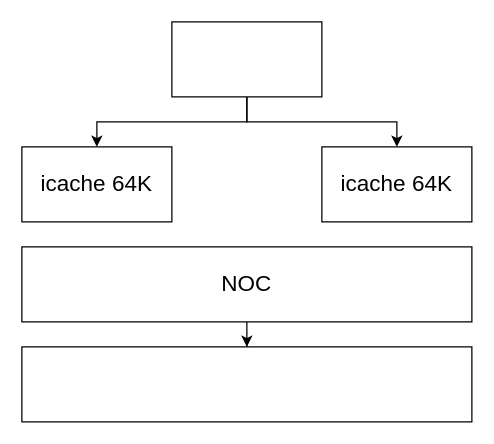
This 494x444 diagram has some shape labels left out. Each missing label, with the centre of its shape:
"core0" belongs at point (246, 59).
"DDR" belongs at point (246, 384).
